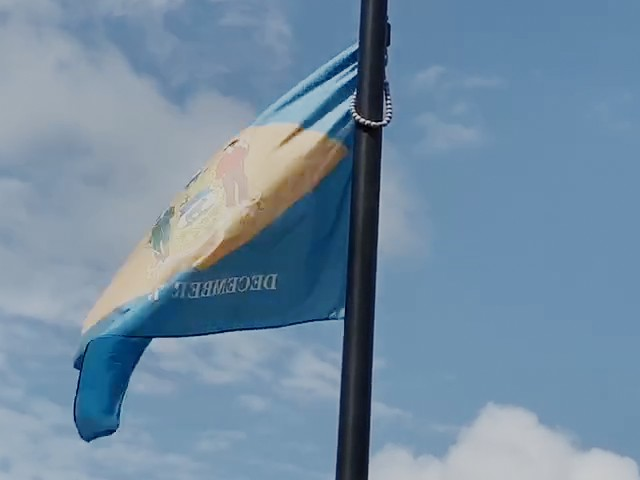Delaware flag: (68, 39, 361, 442)
